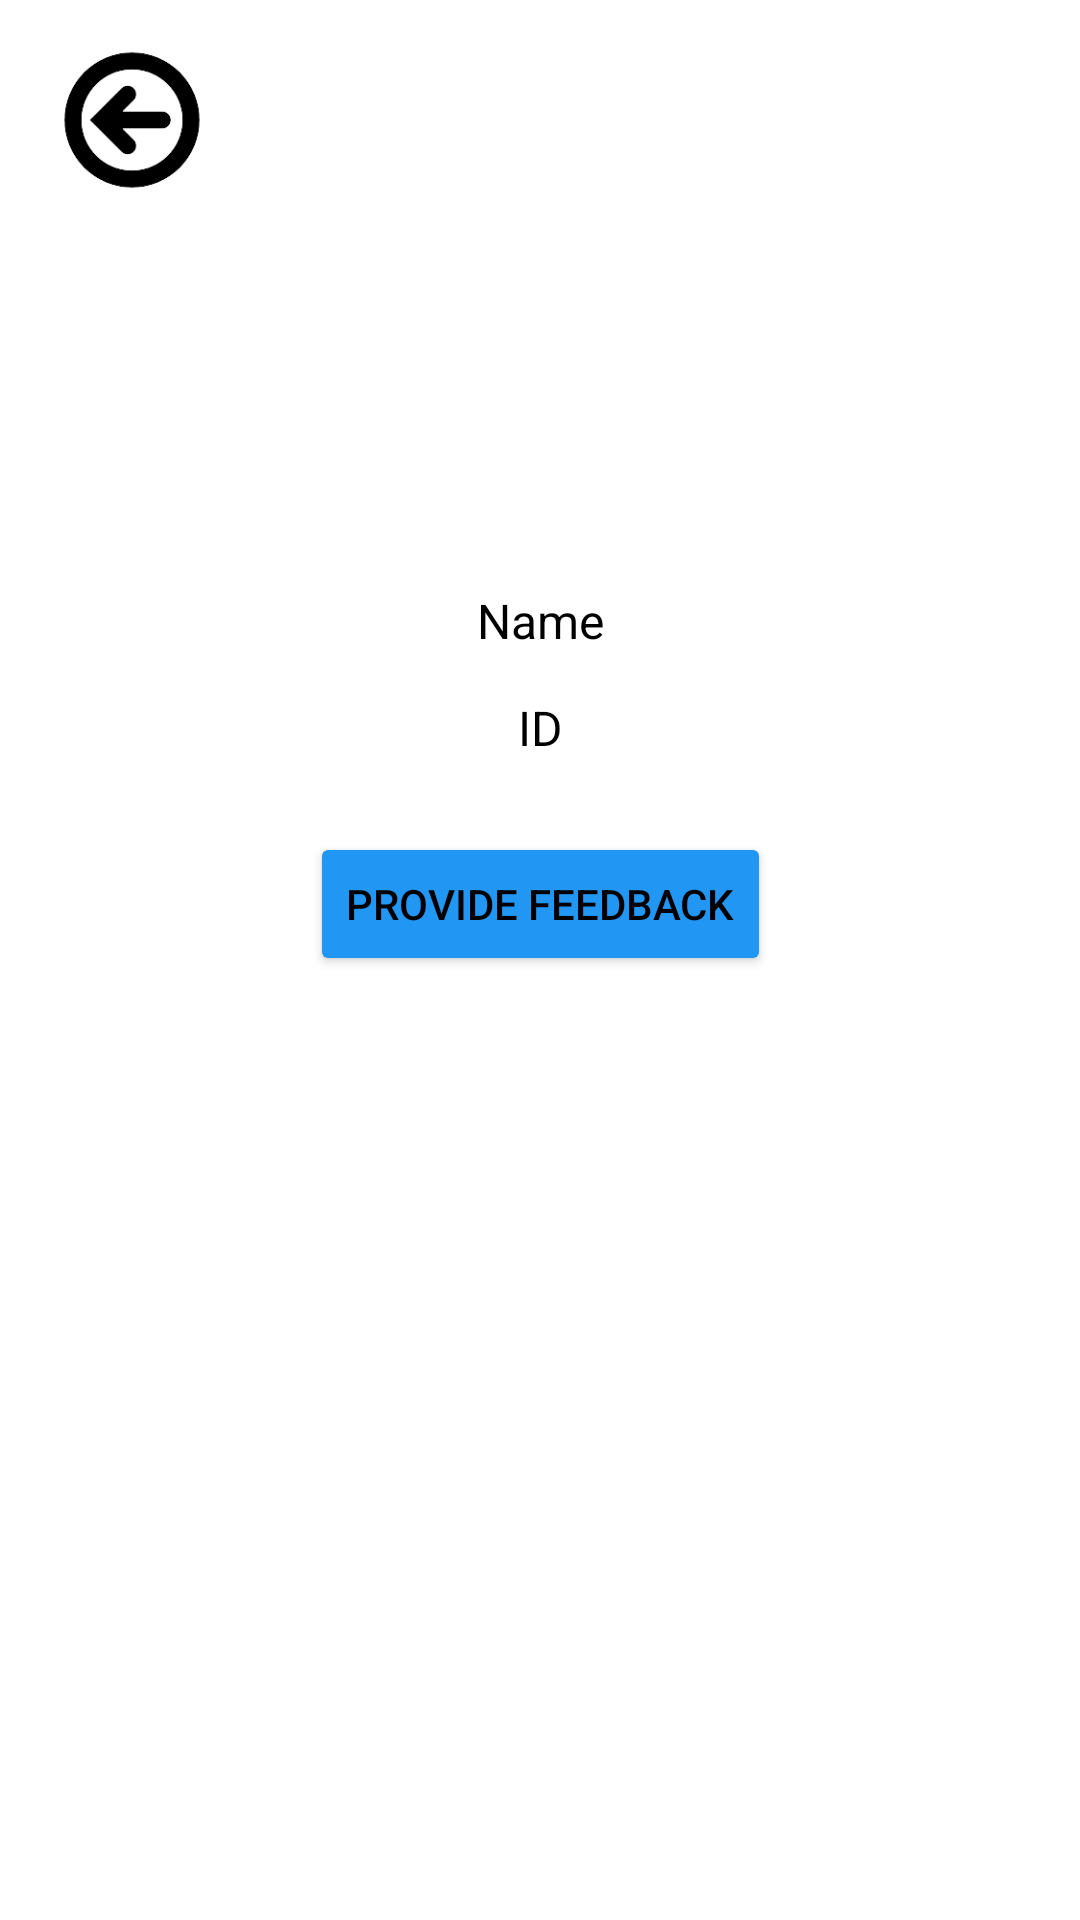

Icon bounding boxes for this 1080x1920 phone screenshot, format rect(x1, y1, x2, y2):
backbutton: rect(64, 52, 200, 188)
